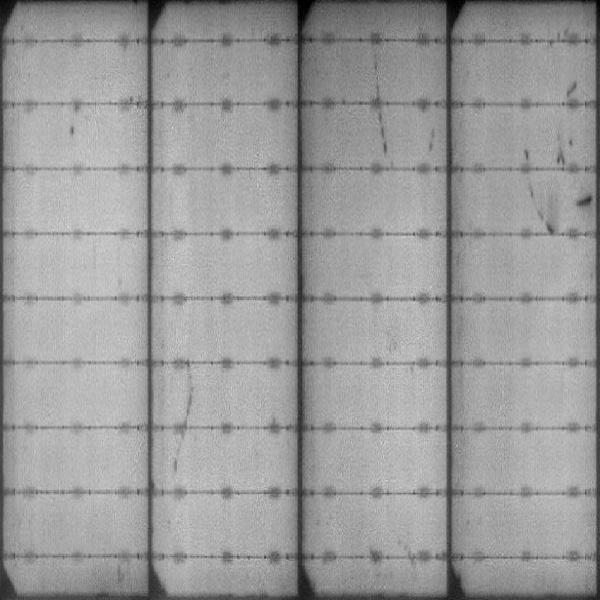scratch: (521, 151, 558, 236), (170, 366, 199, 473), (373, 46, 388, 159), (577, 186, 594, 213), (567, 75, 577, 102)
